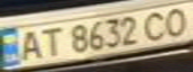2: (118, 12, 145, 46)
3: (103, 16, 127, 48)
6: (84, 19, 109, 52)
8: (66, 20, 90, 54)
A: (12, 27, 45, 62)
C: (139, 8, 175, 41)
O: (157, 4, 193, 37)
T: (36, 25, 66, 57)
